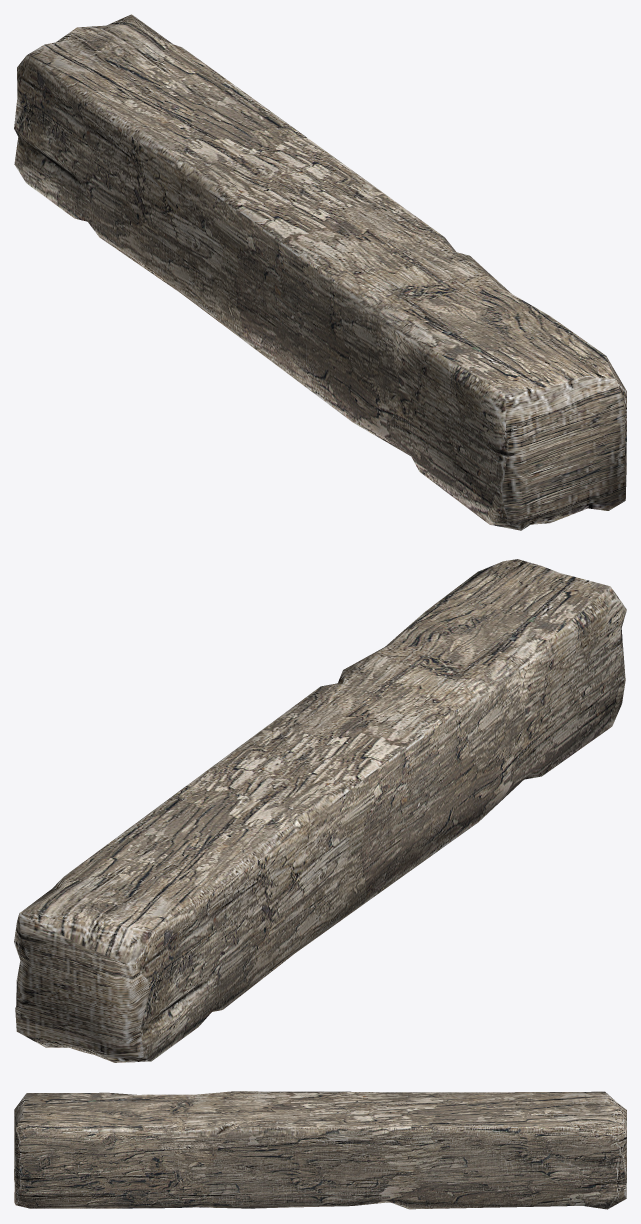
The model's file is Wood Beam.obj.
3 views of the same model, one above another, from view 1: azimuth 30°, elevation 25°; view 2: azimuth 150°, elevation 25°; view 3: azimuth 270°, elevation 25° (orthographic). The views are drawn at different scales.
Visible parts, largest first — view 1: SM_Cave_Wood_Beam; view 2: SM_Cave_Wood_Beam; view 3: SM_Cave_Wood_Beam.
Part boxes in pixels (x1,y1,x2,y2): SM_Cave_Wood_Beam: (14, 14, 626, 530); SM_Cave_Wood_Beam: (14, 559, 626, 1062); SM_Cave_Wood_Beam: (14, 1091, 626, 1209).
Size of the model in its own units: 41.51 by 42.14 by 271.
Materials: 1 (1 with a texture image).
